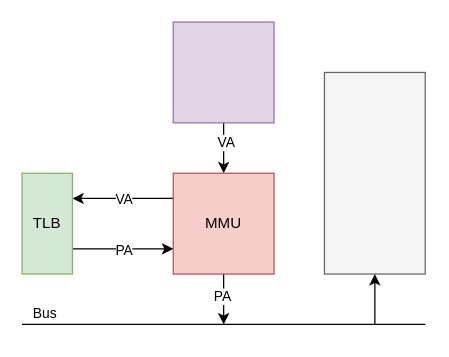
This 449x357 diagram has some shape labels left out. Each missing label, with the centre of its shape:
"CPU" belongs at (x=223, y=72).
"Physical Memory" belongs at (x=374, y=172).
